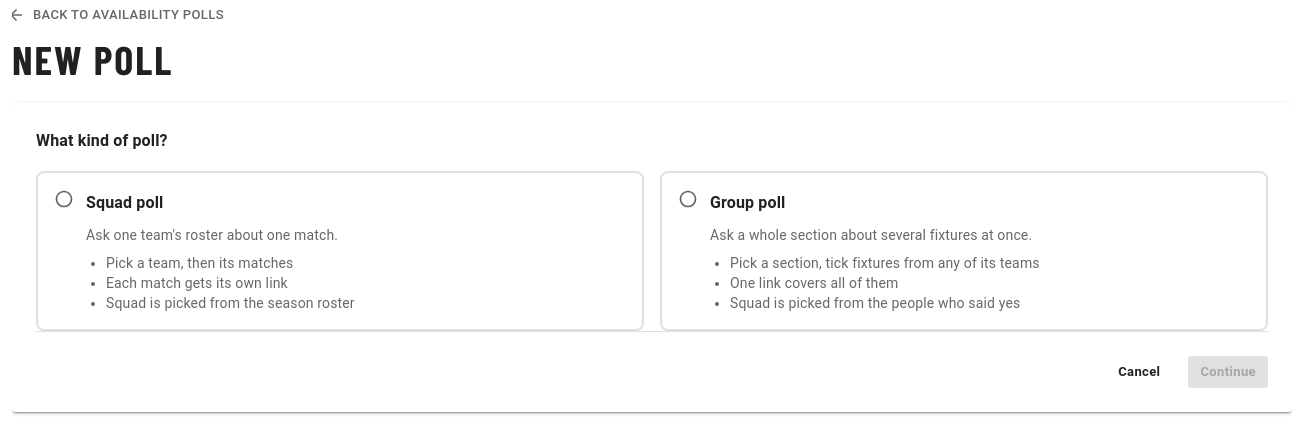
Test: NewPollPage › chooser › shows two choice cards with their bullets, Continue disabled until one is chosen
The image size is (1292, 432).
Check: the text "Ask one team's roster about one match." is shown, box 86,225 -> 355,245
Check: the text "Ask a whole section about several fixtures at once." is shown, box 710,225 -> 1040,245
Click the radio button labelled "Group poll" at [748, 202], box 660,171 -> 1268,331
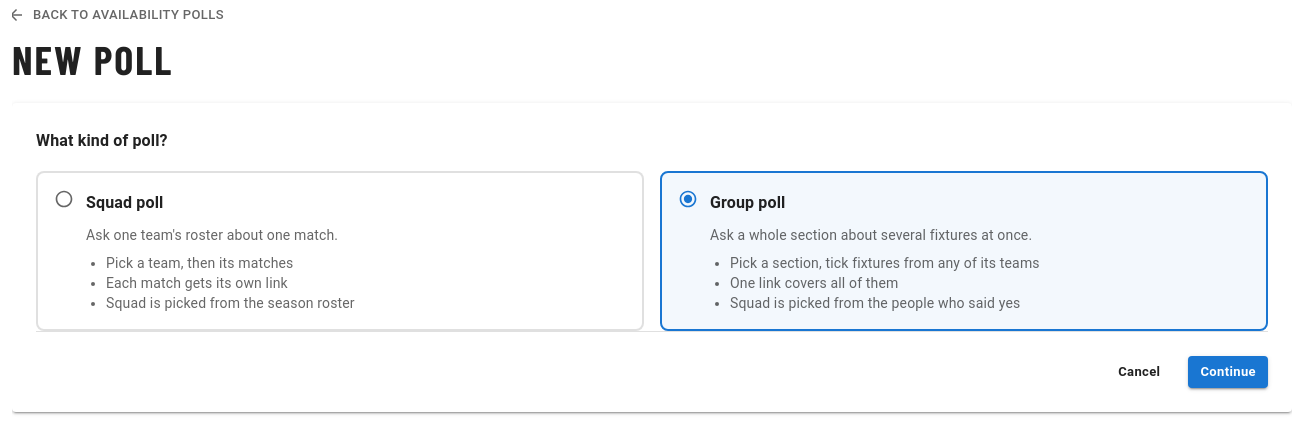
Check: the button "Continue" is enabled, box 1188,356 -> 1268,388
